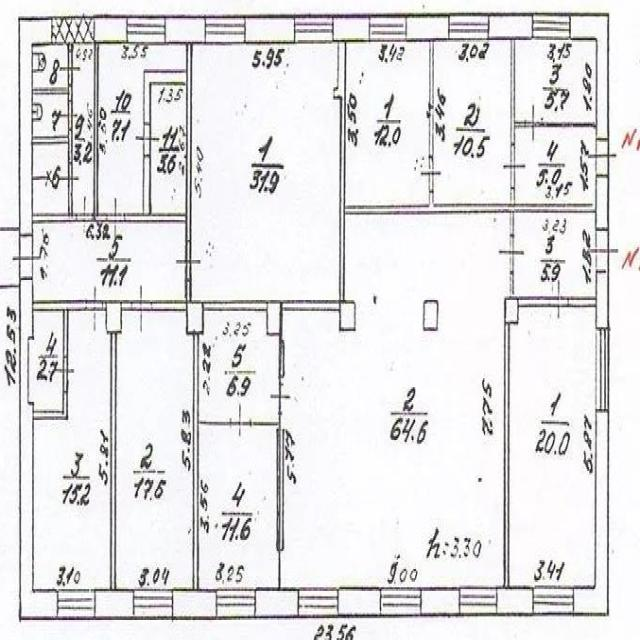Bathrooms: (34, 95, 68, 135), (34, 45, 67, 85)
Corridors: (35, 224, 185, 300), (515, 215, 595, 295), (517, 131, 594, 201), (74, 46, 93, 213), (34, 146, 68, 215)
Doors: (11, 235, 43, 278), (589, 230, 619, 273), (174, 240, 202, 283), (588, 138, 619, 175), (502, 143, 527, 188), (498, 234, 525, 274), (131, 283, 152, 333), (547, 279, 569, 324), (229, 399, 253, 440), (85, 285, 104, 335), (420, 155, 444, 193), (524, 101, 545, 144), (106, 195, 125, 242), (135, 124, 161, 157), (52, 356, 75, 393), (58, 51, 81, 85), (76, 193, 94, 236), (57, 163, 81, 195), (269, 382, 291, 415), (59, 101, 78, 131)
LBwalls: (20, 278, 57, 620), (18, 17, 52, 235), (574, 412, 609, 616), (571, 12, 610, 138), (245, 15, 294, 45), (173, 588, 216, 620), (339, 586, 380, 618), (256, 588, 298, 619), (489, 12, 532, 40), (166, 15, 206, 45), (421, 586, 459, 617), (95, 589, 134, 619), (406, 14, 449, 40), (498, 587, 533, 616), (94, 15, 127, 45), (334, 15, 369, 43), (596, 271, 609, 327), (596, 175, 609, 229), (105, 300, 122, 335), (186, 301, 203, 335), (266, 302, 283, 336), (339, 300, 356, 333), (423, 300, 439, 330), (504, 296, 519, 325)
Offices: (282, 215, 510, 587), (192, 45, 339, 298), (510, 307, 595, 585), (116, 311, 192, 587), (35, 313, 109, 587), (98, 45, 186, 212), (199, 425, 278, 588), (347, 44, 428, 201), (435, 42, 510, 201), (201, 314, 278, 418), (517, 41, 596, 120), (152, 85, 185, 213), (29, 314, 62, 410)
Walls: (333, 42, 595, 300), (193, 335, 230, 590), (125, 156, 186, 223), (33, 299, 85, 357), (93, 45, 107, 222), (143, 69, 185, 125), (504, 323, 510, 586), (110, 335, 116, 589), (510, 39, 524, 144), (33, 130, 72, 164), (33, 194, 77, 224), (34, 393, 68, 421), (204, 300, 267, 313), (186, 45, 190, 240), (284, 299, 339, 312), (429, 41, 434, 155), (33, 86, 73, 100), (152, 299, 186, 312), (254, 413, 283, 426), (278, 335, 285, 380), (569, 296, 596, 307), (519, 296, 548, 306), (546, 122, 596, 127), (185, 281, 191, 301), (278, 553, 281, 589), (510, 272, 514, 296), (122, 301, 132, 310)
Windows: (533, 585, 574, 615), (380, 587, 422, 616), (52, 16, 94, 45), (57, 588, 95, 620), (134, 589, 173, 620), (216, 589, 256, 619), (595, 327, 609, 412), (205, 16, 246, 45), (299, 587, 338, 617), (449, 12, 489, 40), (294, 15, 334, 43), (126, 15, 166, 43), (459, 587, 497, 616), (532, 14, 571, 40), (276, 428, 284, 554), (370, 15, 406, 41)
